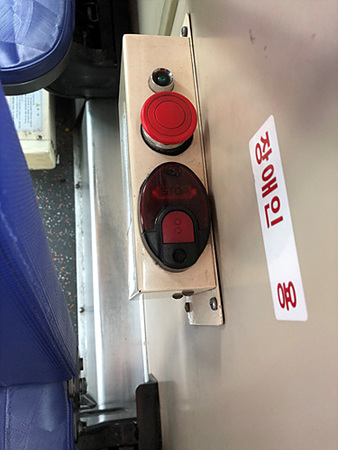bell: (140, 159, 212, 273)
